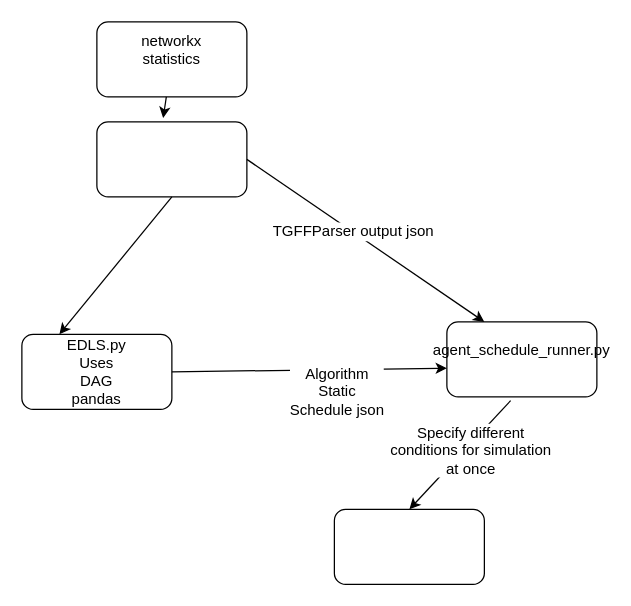
Some shapes in this 631 by 606 pixel diagram are drawn without their labels. Here are the shapes that lost their labels. From the top down, the centre of each, then its label:
the point at 171,159: data_representation.py Classes: TGFFParser DAG
the point at 408,546: run_simulations.py
